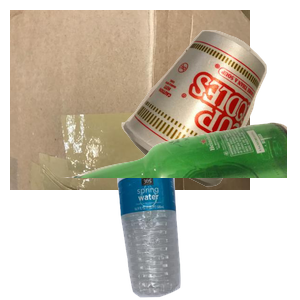cardboard: (10, 10, 250, 190)
glass: (60, 120, 300, 300)
plastic: (115, 176, 288, 300)
trash: (119, 28, 300, 207)
